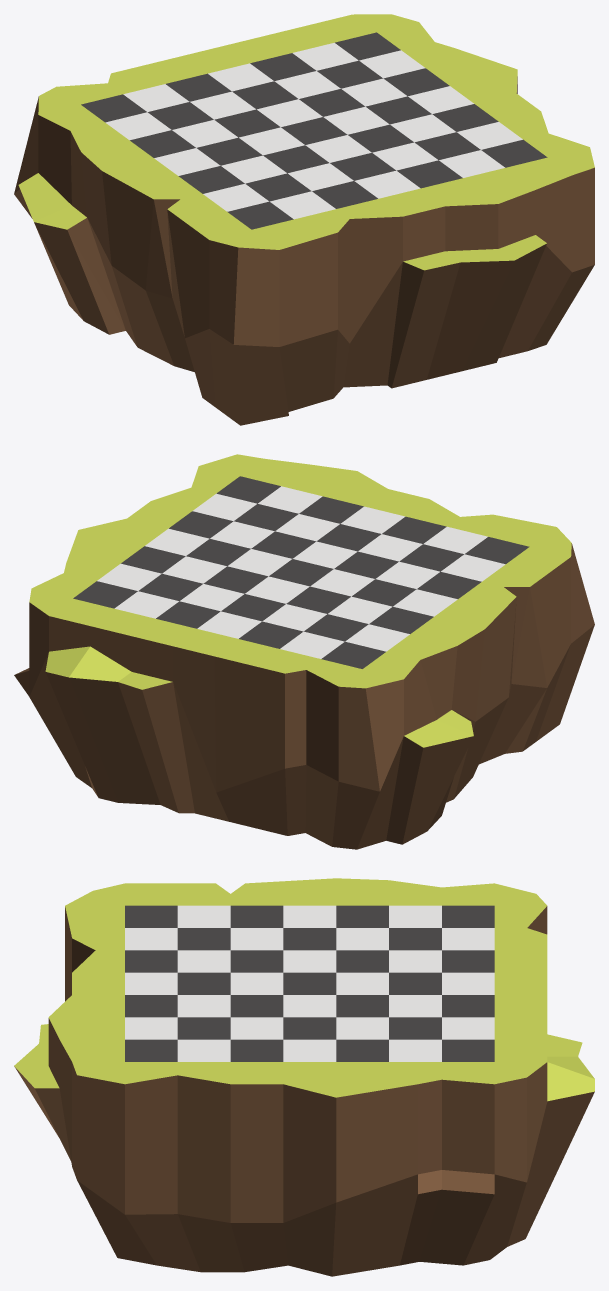
File: Isl_8_Base.fbx
3 renders of one model, top to bottom at view 1: azimuth 30°, elevation 25°; view 2: azimuth 150°, elevation 25°; view 3: azimuth 270°, elevation 25°, orthographic. The views are drawn at different scales.
Visible parts, largest first — view 1: Isl_8_Base; view 2: Isl_8_Base; view 3: Isl_8_Base.
Boxes of the visible parts, <box> form: Isl_8_Base: <box>14,14,594,425</box>; Isl_8_Base: <box>14,454,594,849</box>; Isl_8_Base: <box>14,878,594,1276</box>.
Bounding box in the file's own units: 2333 × 2445 × 922.
Materials: 1 (1 with a texture image).
